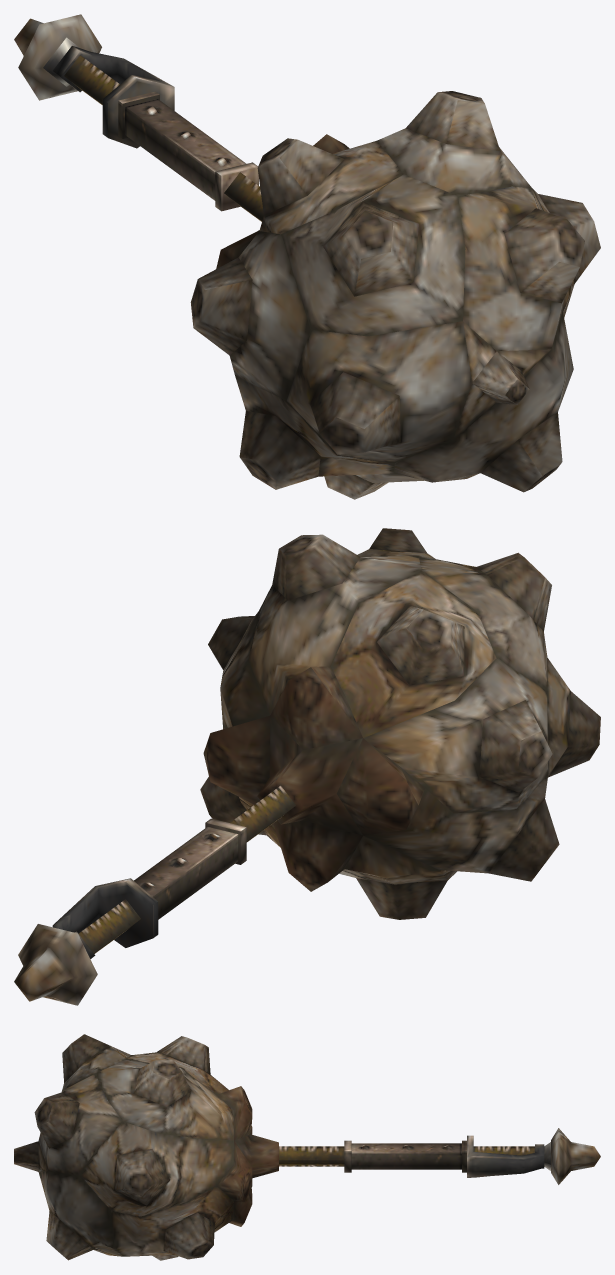
File: we036_amh.OBJ
3 views of the same model, one above another, from view 1: azimuth 30°, elevation 25°; view 2: azimuth 150°, elevation 25°; view 3: azimuth 270°, elevation 25° (orthographic). The views are drawn at different scales.
Visible parts, largest first — view 1: mesh_0; view 2: mesh_0; view 3: mesh_0.
Boxes of the visible parts, left/top/right/bottom form: mesh_0: left=14, top=14, right=600, bottom=499; mesh_0: left=14, top=528, right=600, bottom=1005; mesh_0: left=14, top=1034, right=600, bottom=1260.
Size of the model in its own units: 95.9 by 92.21 by 219.
Materials: 1 (1 with a texture image).
